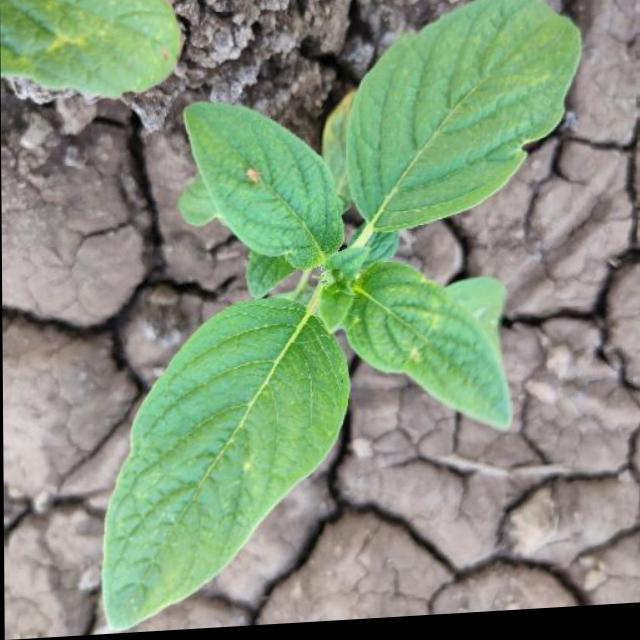crop: (34, 0, 628, 617)
